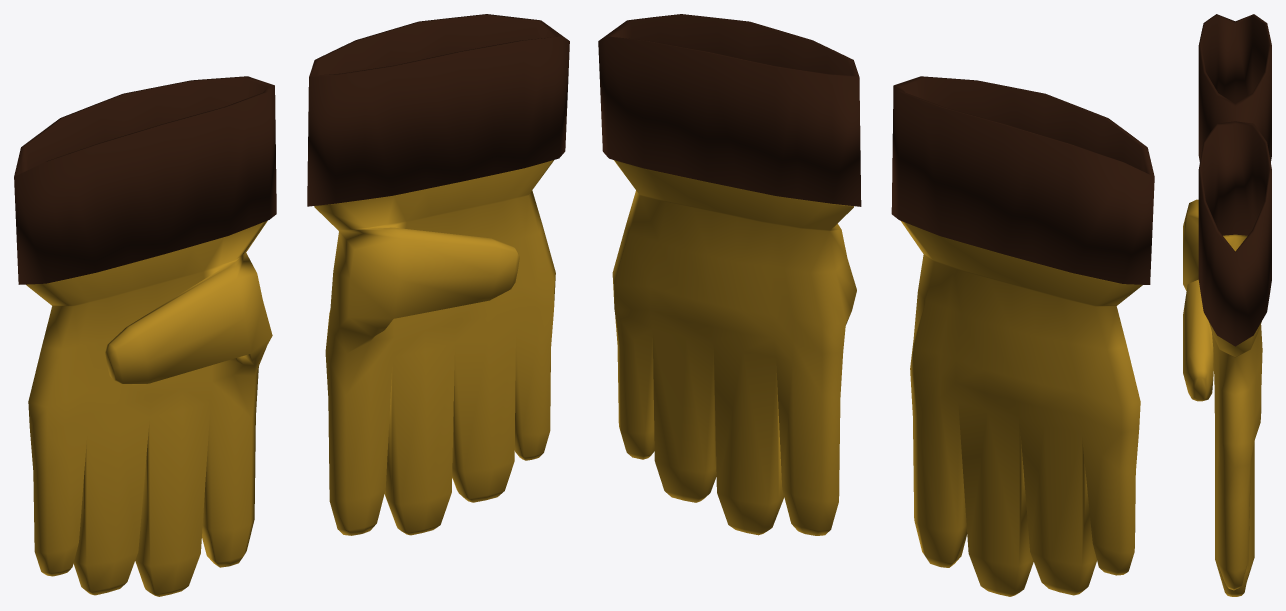
Rendered from Gloves.fbx.
3 renders of one model, left to right at view 1: azimuth 30°, elevation 25°; view 2: azimuth 150°, elevation 25°; view 3: azimuth 270°, elevation 25°, orthographic. The views are drawn at different scales.
Visible parts, largest first — view 1: Glove_Band (×2), Glove_Left, Glove_Right; view 2: Glove_Band (×2), Glove_Right, Glove_Left; view 3: Glove_Band (×2), Glove_Right, Glove_Left.
Boxes of the visible parts, x1,y1,x2,y2 form: Glove_Band (×2): (14, 14, 569, 284); Glove_Left: (26, 220, 272, 596); Glove_Right: (314, 160, 555, 535); Glove_Band (×2): (598, 14, 1154, 284); Glove_Right: (612, 160, 856, 535); Glove_Left: (901, 221, 1142, 596); Glove_Band (×2): (1198, 14, 1271, 346); Glove_Right: (1183, 234, 1262, 596); Glove_Left: (1183, 199, 1198, 290).
Size of the model in its own units: 7.5 by 6.28 by 1.21.
